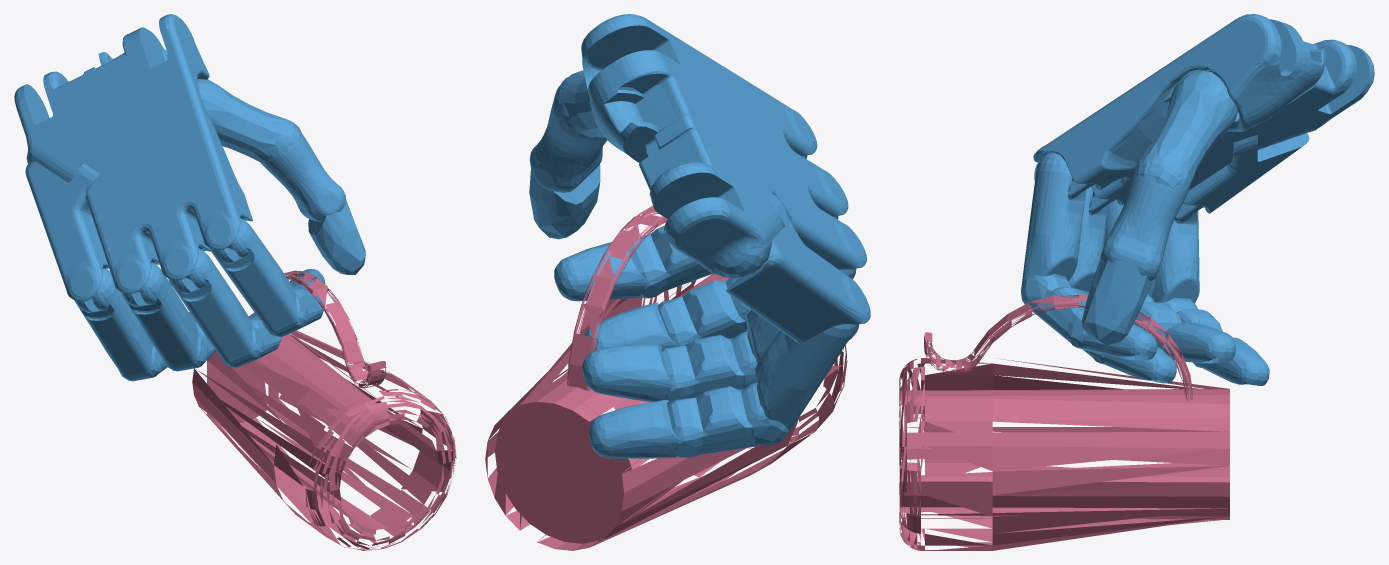
3 renders of one model, left to right at view 1: azimuth 30°, elevation 25°; view 2: azimuth 150°, elevation 25°; view 3: azimuth 270°, elevation 25°, orthographic. The views are drawn at different scales.
Parts seen in each view (by area): view 1: 3; view 2: 3; view 3: 3.
Part boxes in pixels (<box>): 3: <box>14,14,456,550</box>; 3: <box>485,14,870,550</box>; 3: <box>899,14,1374,550</box>.
Size of the model in its own units: 0.1343 by 0.2044 by 0.1787.
